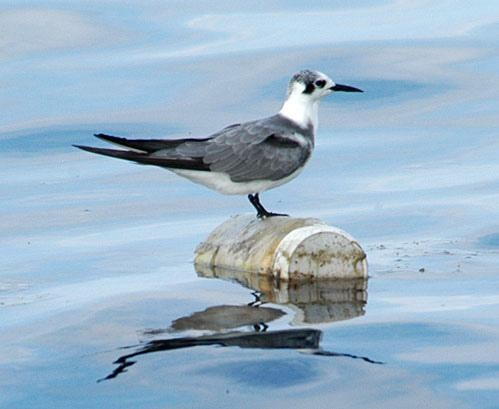bird: (67, 66, 366, 218)
